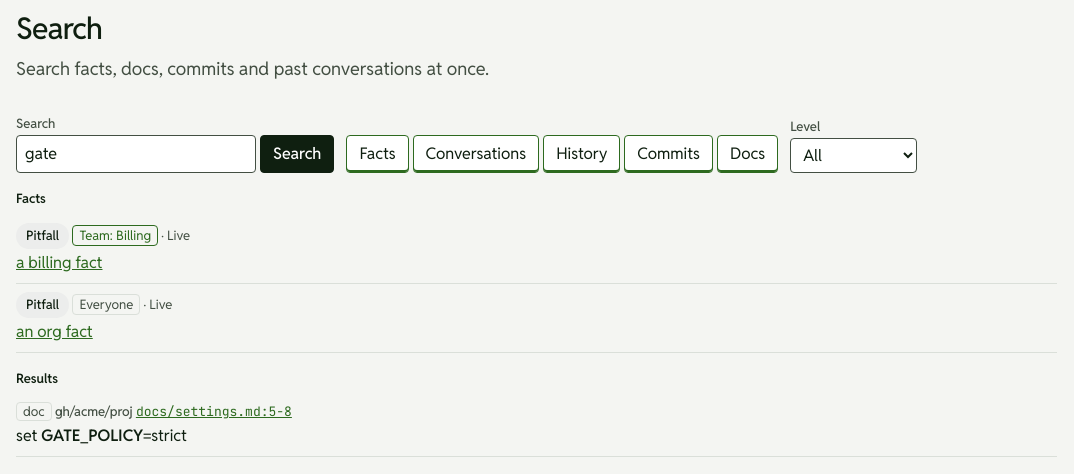
Scenario: search view › badges each fact's level, and the Level filter narrows facts only
Expected: the element with class "level" reads "Team: Billing", [79,227,151,244]
Expected: the element with class "level" reads "Everyone", [79,296,133,313]
Select "Team: Billing" in the dropdown labelled "Level": (854, 156) [790,138,917,173]
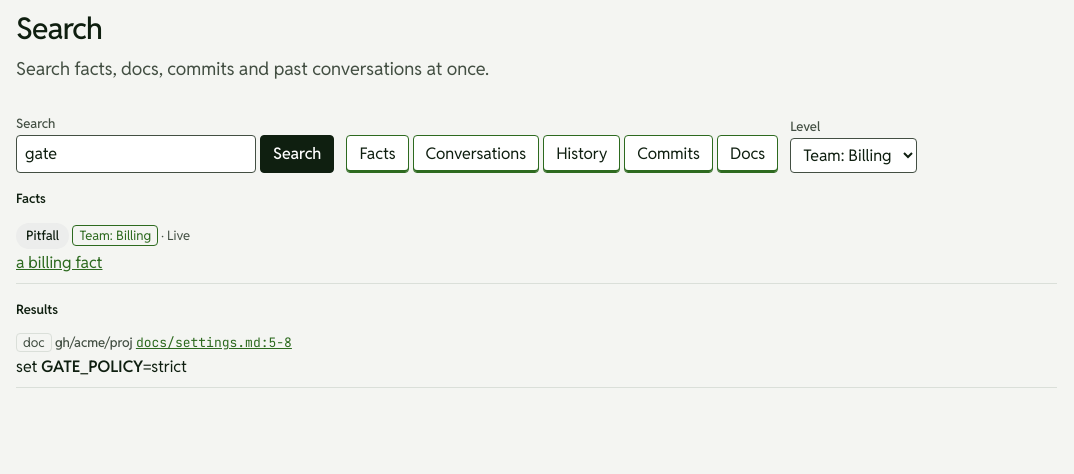
Expected: the link "a billing fact" is shown, [16,252,102,272]
Result: the link "an org fact" is gone
